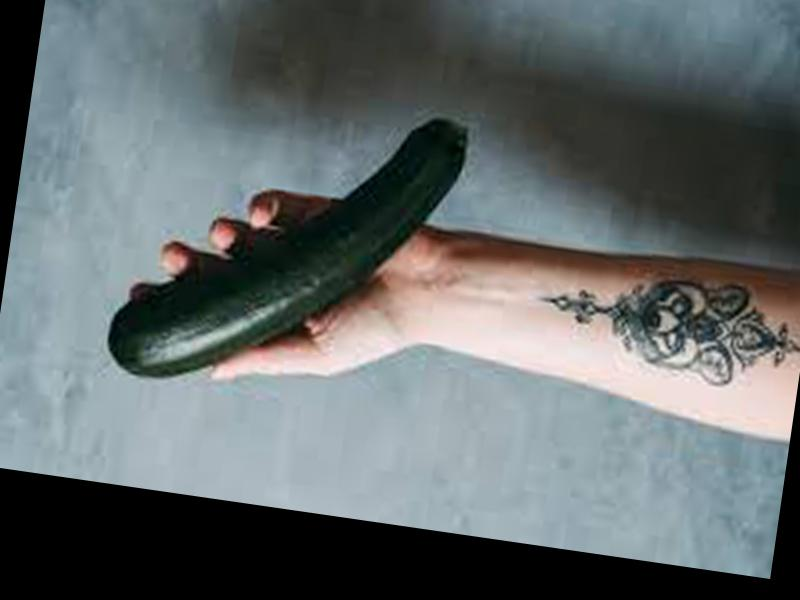Cucumber: (103, 77, 467, 416)
